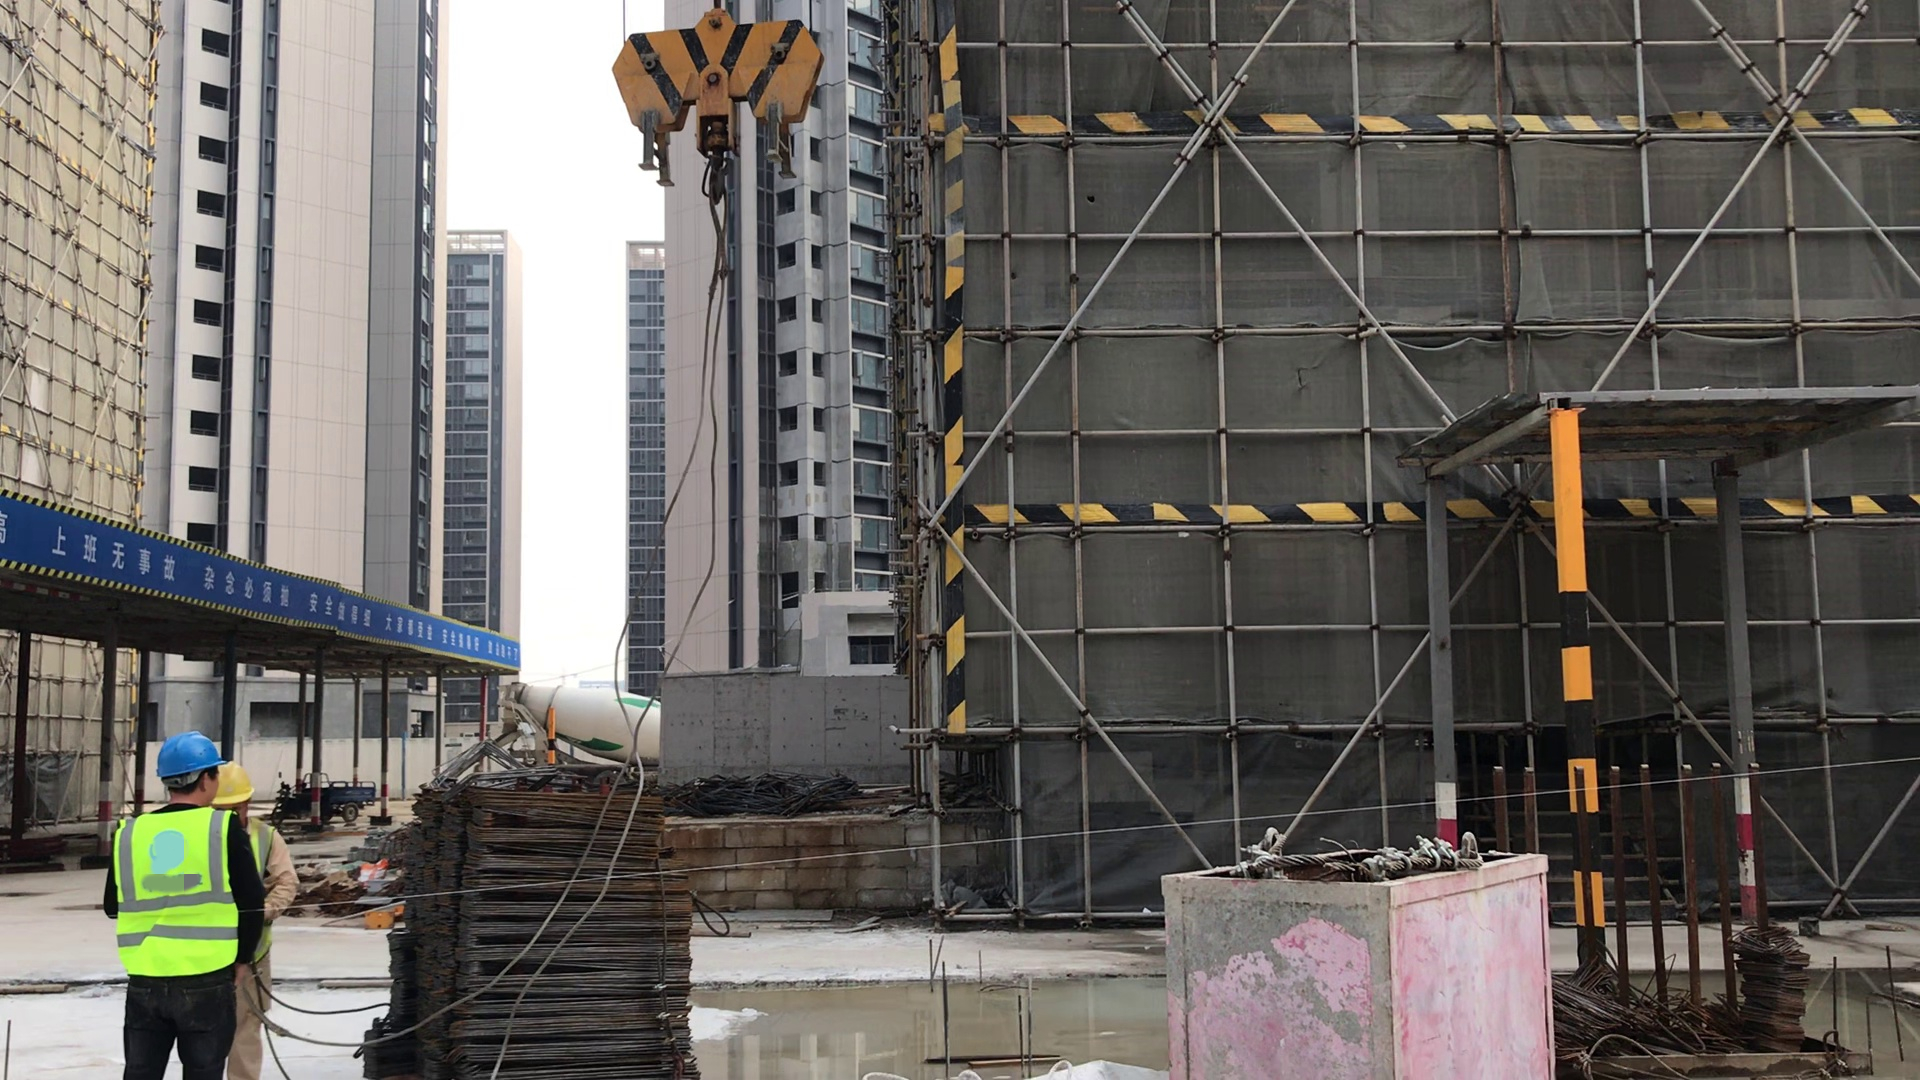helmet: (147, 737, 230, 779), (208, 763, 254, 806)
hook: (621, 1, 835, 200)
person: (99, 732, 230, 1080), (212, 765, 296, 1080)
slogan: (3, 493, 520, 674)
vest: (110, 809, 232, 979)
